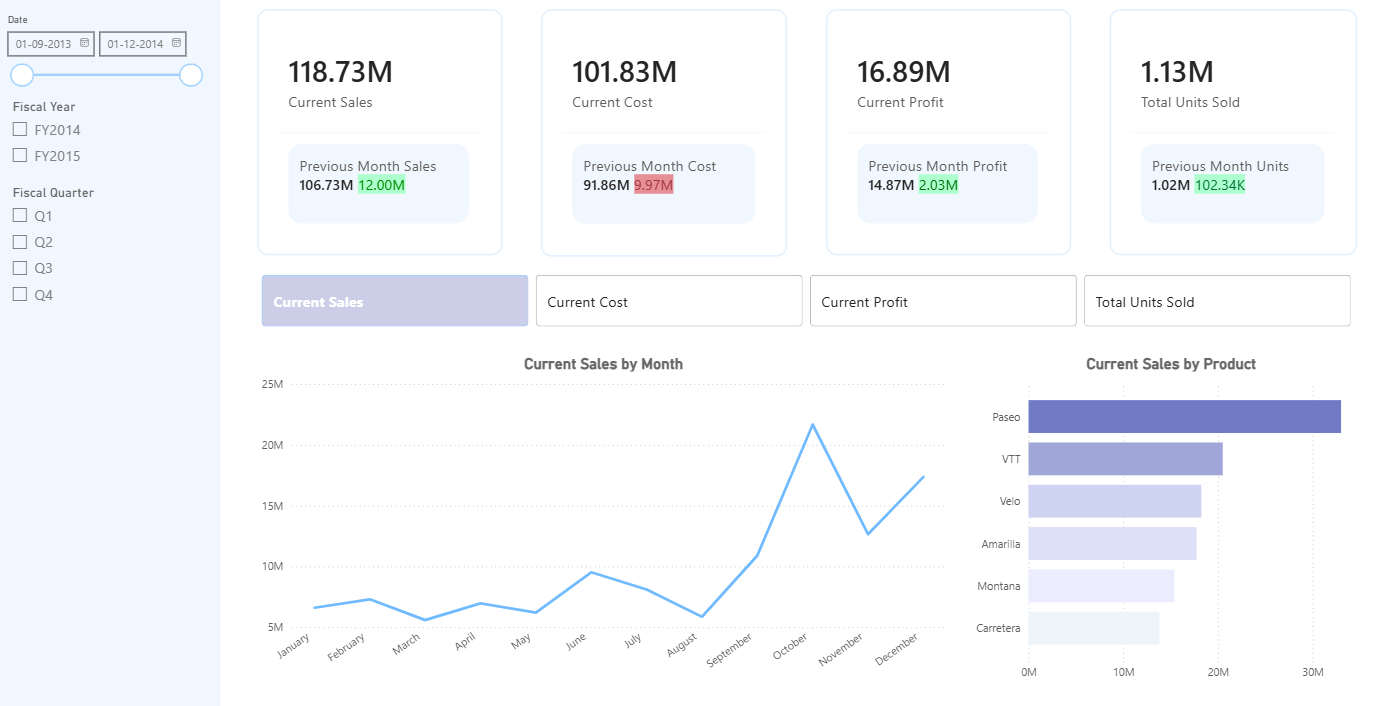

What the dashboard file says about the page in this screenshot:
{"tool":"powerbi","page":{"name":"Overview","canvas":[1550,800],"ordinal":0},"visuals":[{"type":"cardVisual","fields":{"Data":["MeasureTable.Current Sales"]},"box":[288.9,18.5,270.9,272.3],"z":0},{"type":"cardVisual","fields":{"Data":["MeasureTable.Current Cost"]},"box":[602.6,17.8,272.3,273.7],"z":2000},{"type":"cardVisual","fields":{"Data":["MeasureTable.Current Profit"]},"box":[917.8,18.5,270.9,272.3],"z":3000},{"type":"cardVisual","fields":{"Data":["MeasureTable.Total Units Sold"]},"box":[1231.5,18.5,273.7,272.3],"z":4000},{"type":"shape","box":[0,0,247.4,800.3],"z":5001},{"type":"slicer","fields":{"Values":["Date.Date"]},"box":[0,18,236.4,94],"z":5501},{"type":"lineChart","fields":{"Category":["Date.Date.Variation.Date Hierarchy.Year","Date.Date.Variation.Date Hierarchy.Quarter","Date.Date.Variation.Date Hierarchy.Month","Date.Date.Variation.Date Hierarchy.Day"],"Y":["MeasureTable.Current Sales"]},"box":[288.8,399.1,766.3,370.1],"z":6002},{"type":"advancedSlicerVisual","fields":{"Values":["Parameter.Parameter"]},"box":[288.9,306.8,1216.3,67.7],"z":6003},{"type":"clusteredBarChart","fields":{"Category":["financials.Product"],"Y":["MeasureTable.Current Sales"]},"box":[1074,399.1,451.4,370.1],"z":6004},{"type":"slicer","fields":{"Values":["Date.Fiscal Year"]},"box":[5.2,111.8,211.4,96.1],"z":6005},{"type":"slicer","fields":{"Values":["Date.Fiscal Quarter"]},"box":[5.2,207.9,211.4,148.5],"z":6006}]}

Visuals, with their boxes in screenshot pixels (x1, y1, x2, y2), scaled from the page's 1550x800 canvas onto the 1391x706 screenshot:
cardVisual - MeasureTable.Current Sales: 259/16/502/257
cardVisual - MeasureTable.Current Cost: 541/16/785/257
cardVisual - MeasureTable.Current Profit: 824/16/1067/257
cardVisual - MeasureTable.Total Units Sold: 1105/16/1351/257
shape: 0/0/222/705
slicer - Date.Date: 0/16/212/99
lineChart - Date.Date.Variation.Date Hierarchy.Year x Date.Date.Variation.Date Hierarchy.Quarter: 259/352/947/679
advancedSlicerVisual - Parameter.Parameter: 259/271/1351/330
clusteredBarChart - financials.Product x MeasureTable.Current Sales: 964/352/1369/679
slicer - Date.Fiscal Year: 5/99/194/183
slicer - Date.Fiscal Quarter: 5/183/194/315
